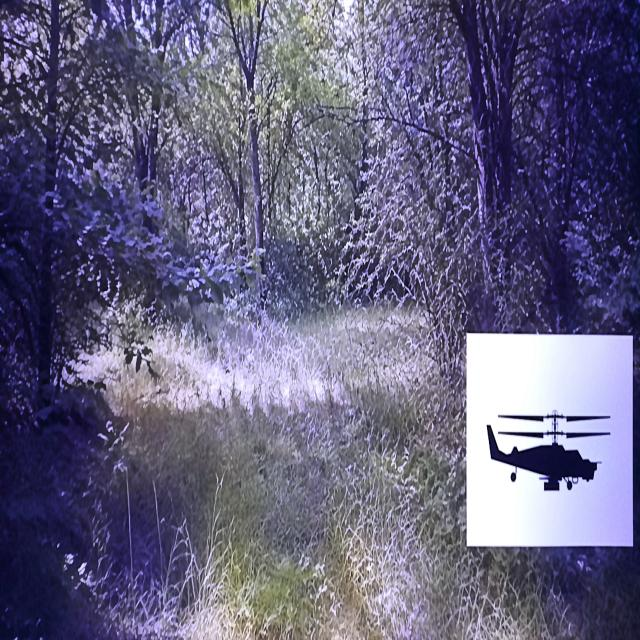Ka-52 Enemy: (488, 411, 609, 490)
